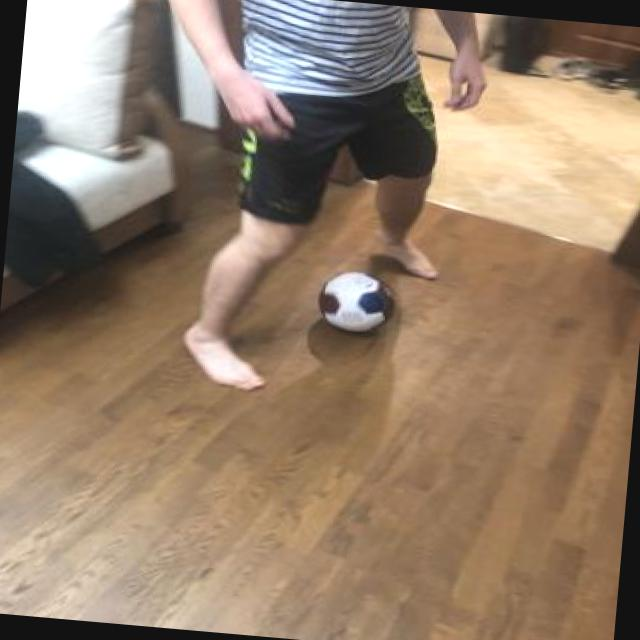Soccer Ball: (317, 264, 403, 335)
